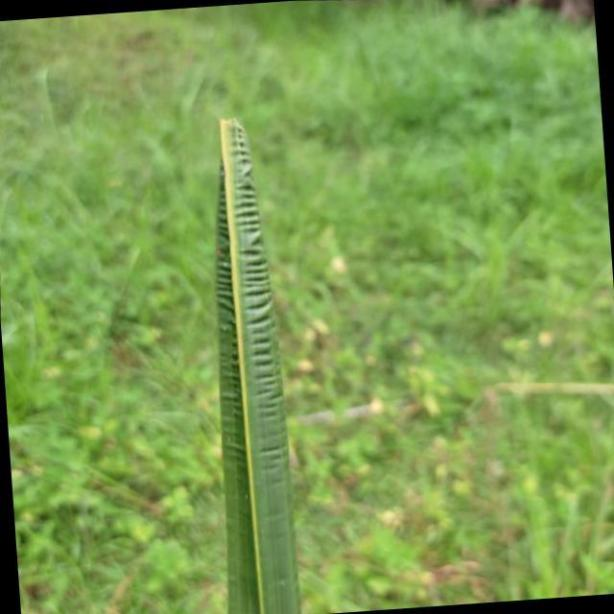Boron: (210, 115, 308, 614)
